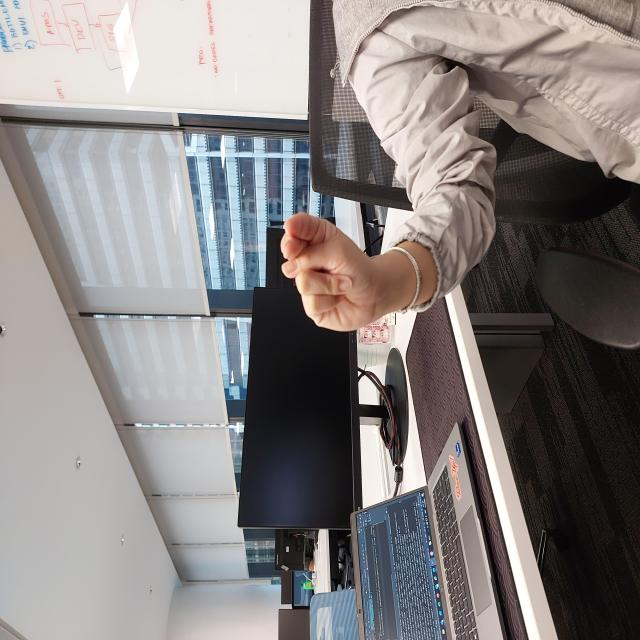N: (309, 279, 427, 374)
